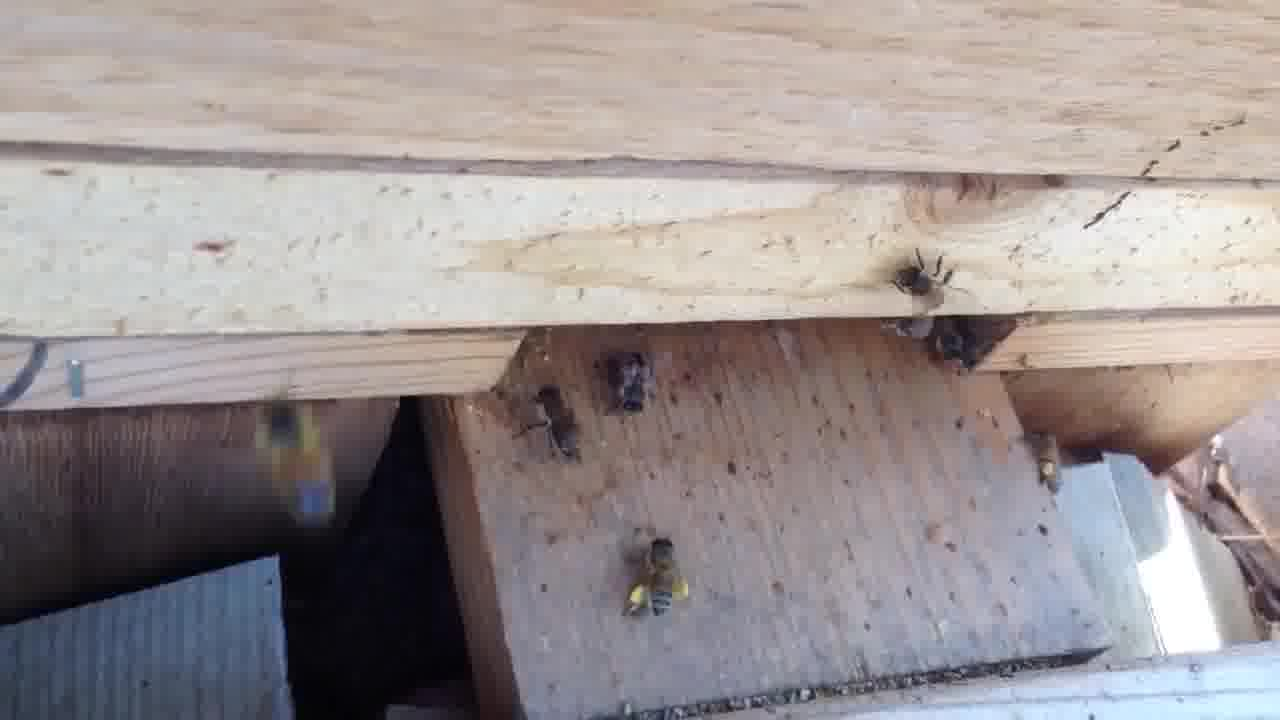pollen: (631, 540, 696, 623), (1026, 426, 1071, 498)
